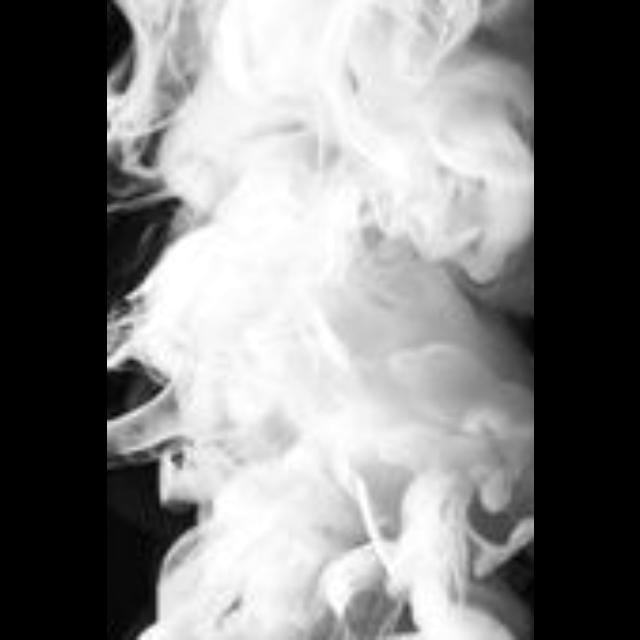smoke: (106, 0, 534, 640)
